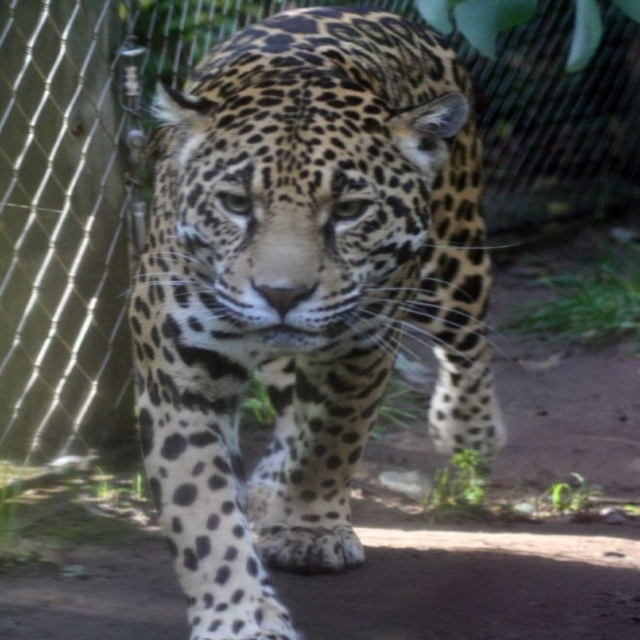Cheetah: (123, 0, 518, 639)
